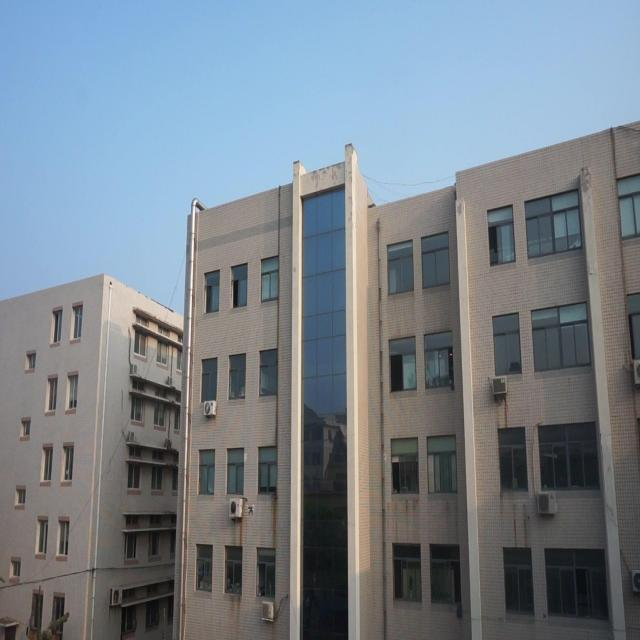UAV: (247, 506, 254, 516)
